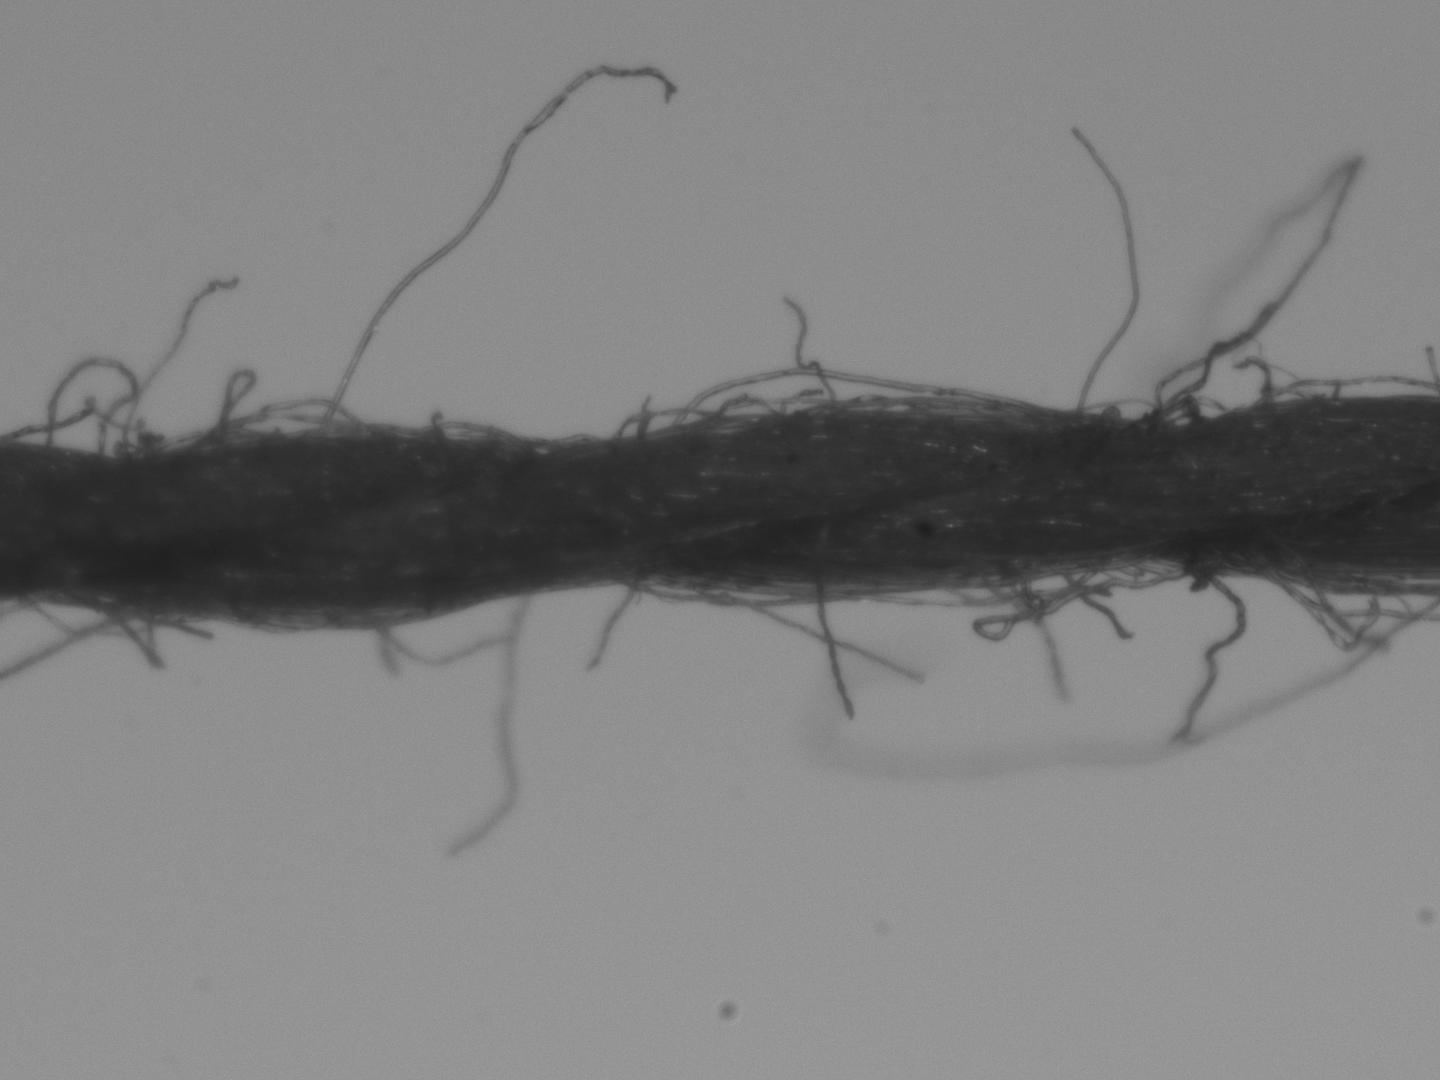loop_fiber: (670, 363, 1015, 433), (840, 556, 1103, 605), (44, 357, 136, 453), (200, 399, 366, 450), (1255, 372, 1437, 406), (615, 581, 816, 606), (1135, 397, 1225, 427), (412, 420, 513, 444)
